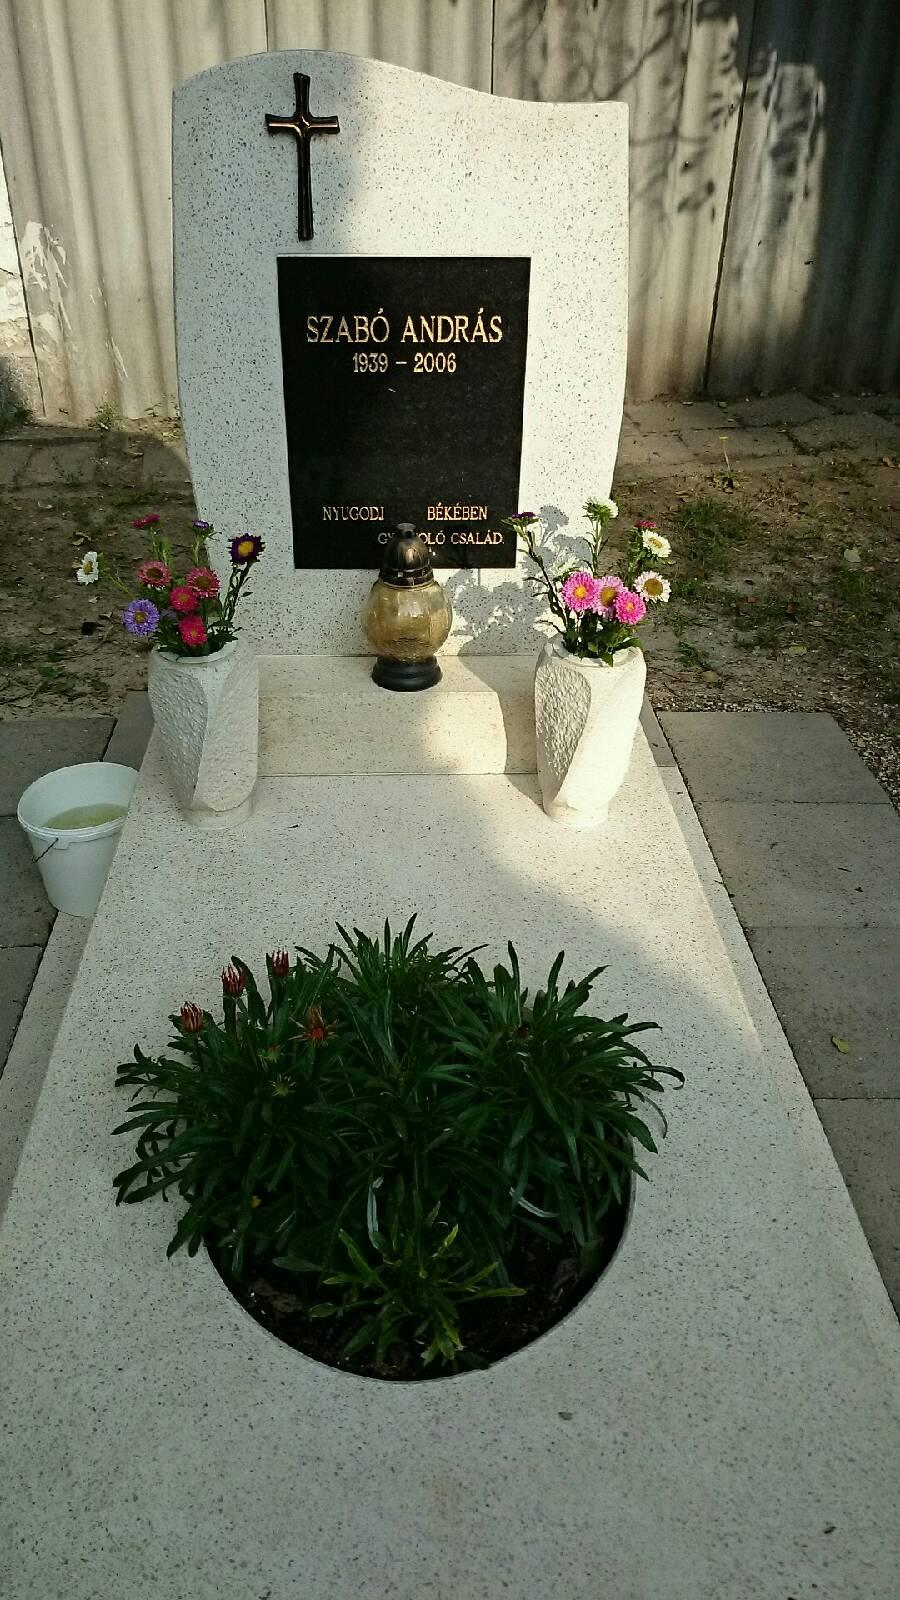vault: (0, 58, 900, 1600)
